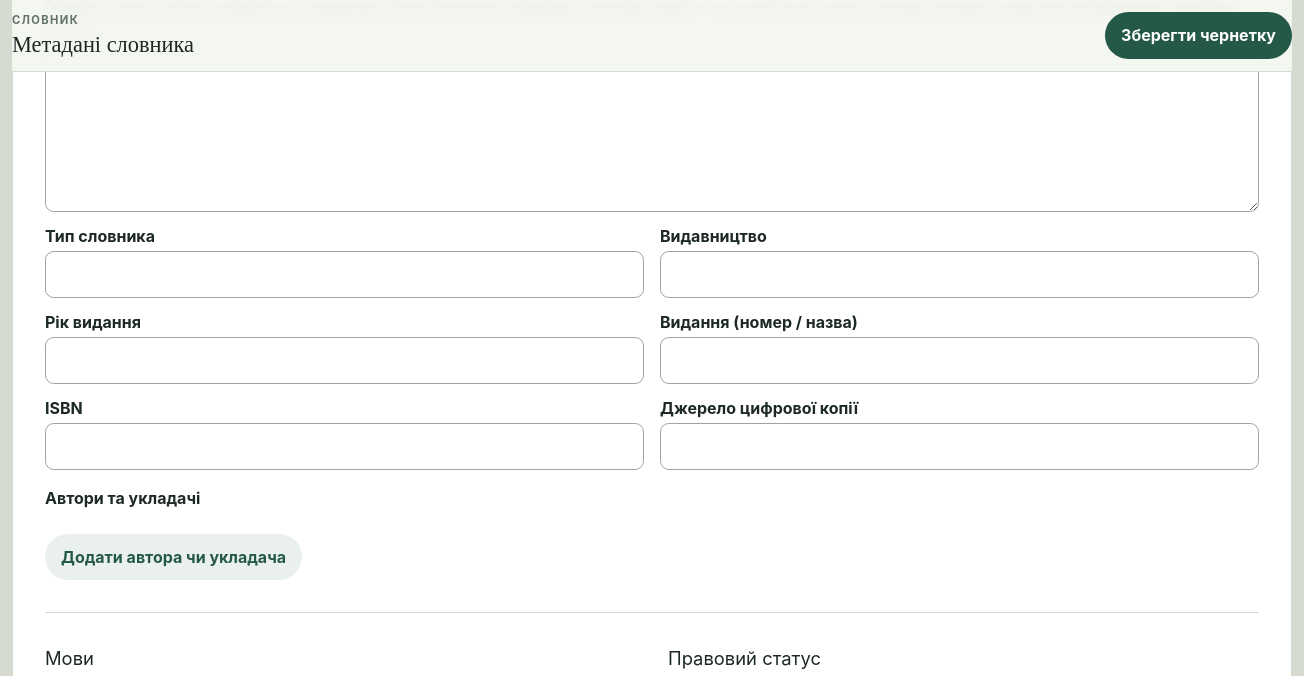
Test: DictionaryMetadataForm › validates publication year and ISBN on blur
(page scrolled)
Type "999" into the field labelled "Рік видання" at (344, 360), box [45,337,644,384]
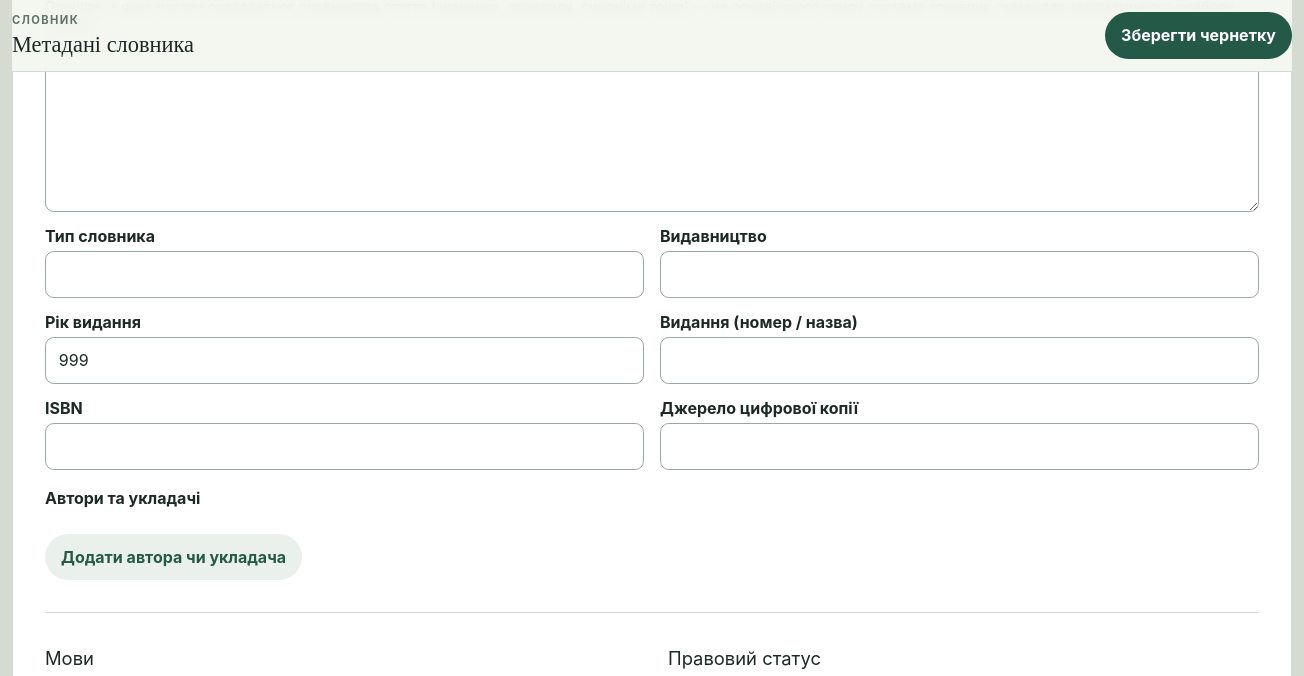
Leave the field labelled "Рік видання", box [45,337,644,384]
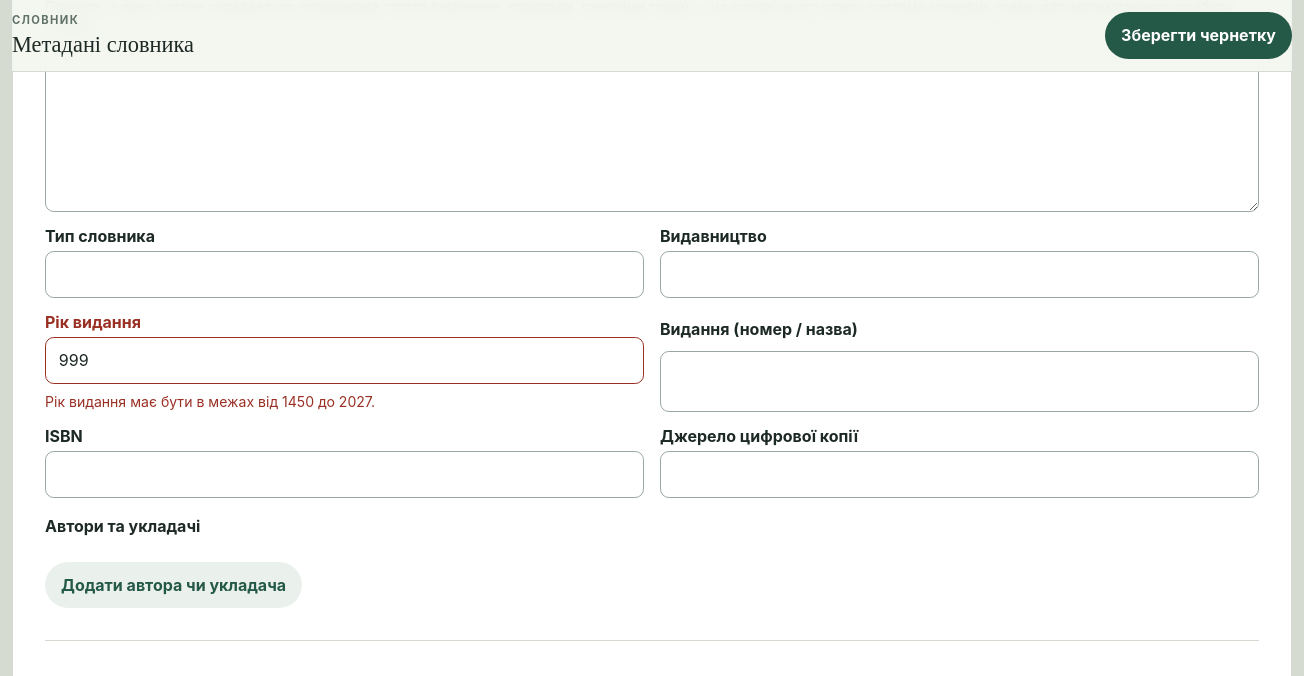
Check: the text "Рік видання має бути в межах від 1450 до 2027." is shown, box [45,393,375,410]
Type "0306406153" into the field labelled "ISBN" at (344, 475), box [45,451,644,498]
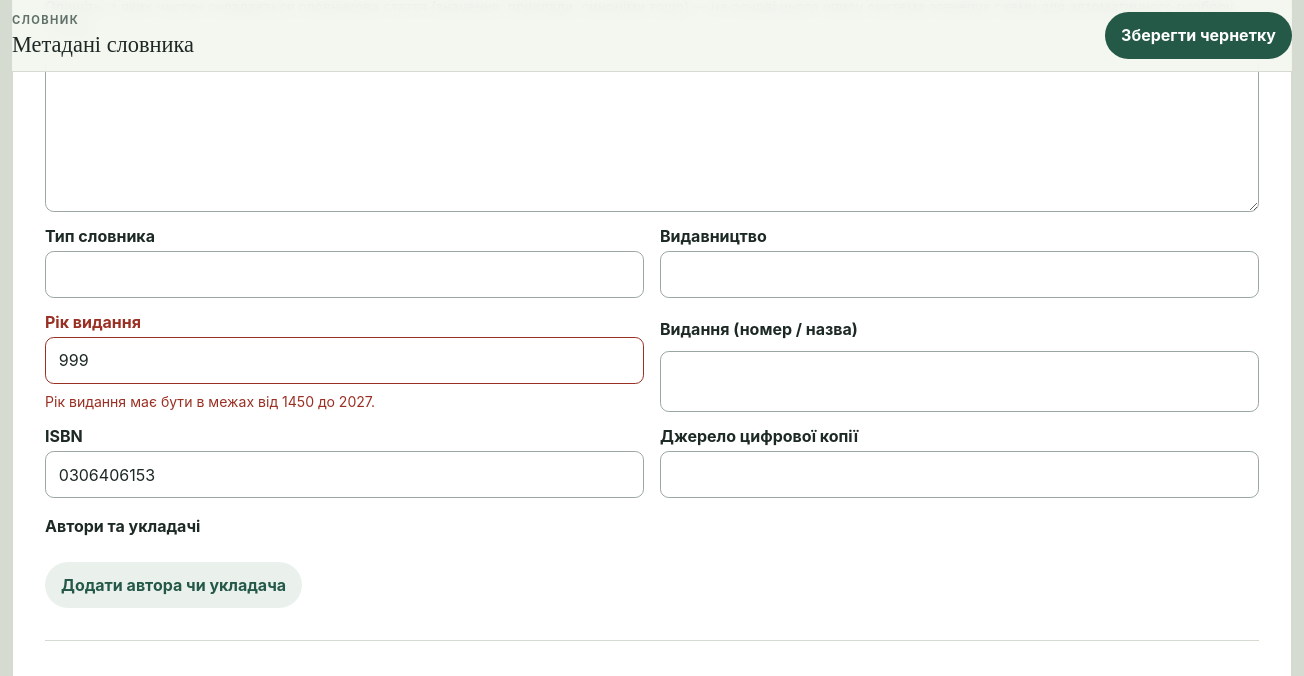
Leave the field labelled "ISBN", box [45,451,644,498]
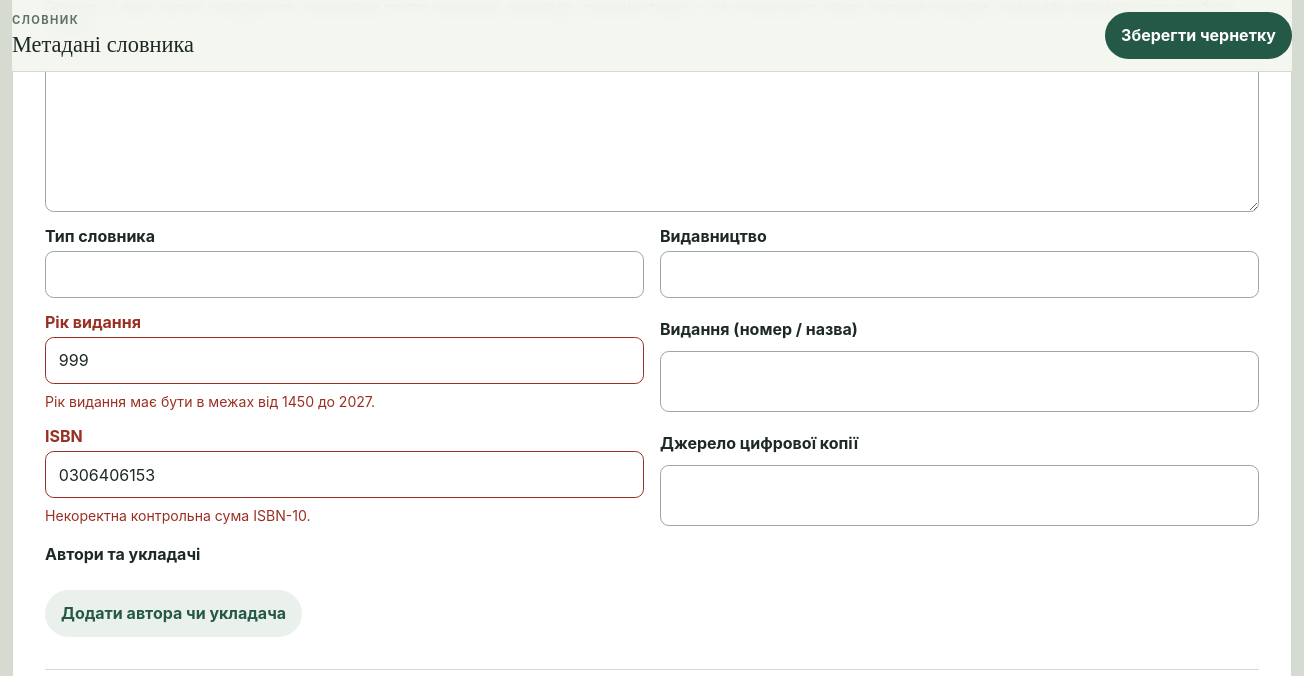
Check: the text "Некоректна контрольна сума ISBN-10." is shown, box [45,507,311,524]
